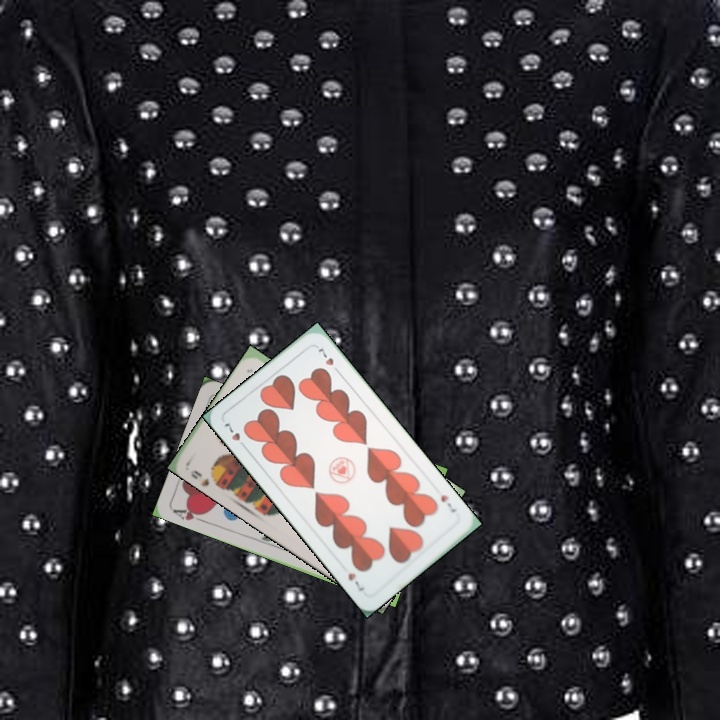H7: (220, 418, 249, 452), (437, 490, 458, 515)
HA: (169, 502, 209, 525)
S9: (186, 466, 222, 489)
